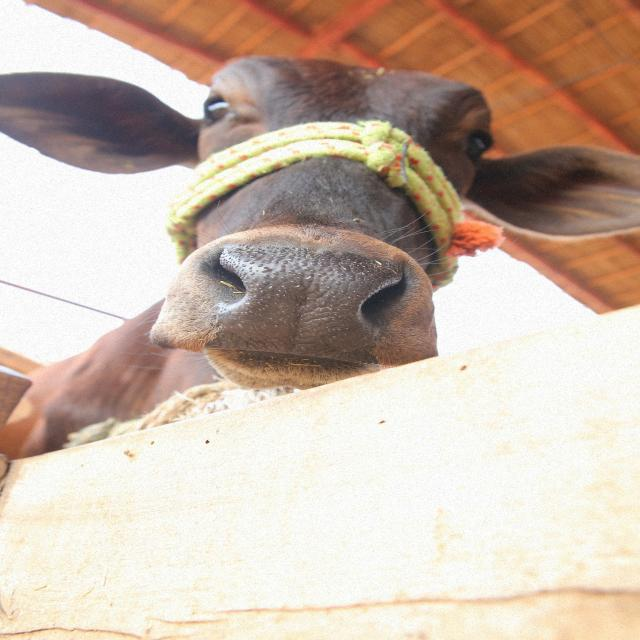muzzles: (187, 235, 414, 372)
